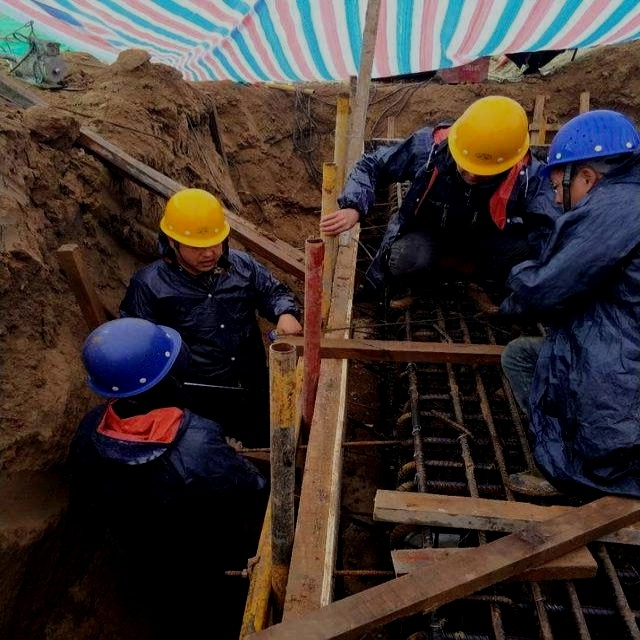Con_Casco: (450, 95, 530, 178), (160, 188, 234, 270)
